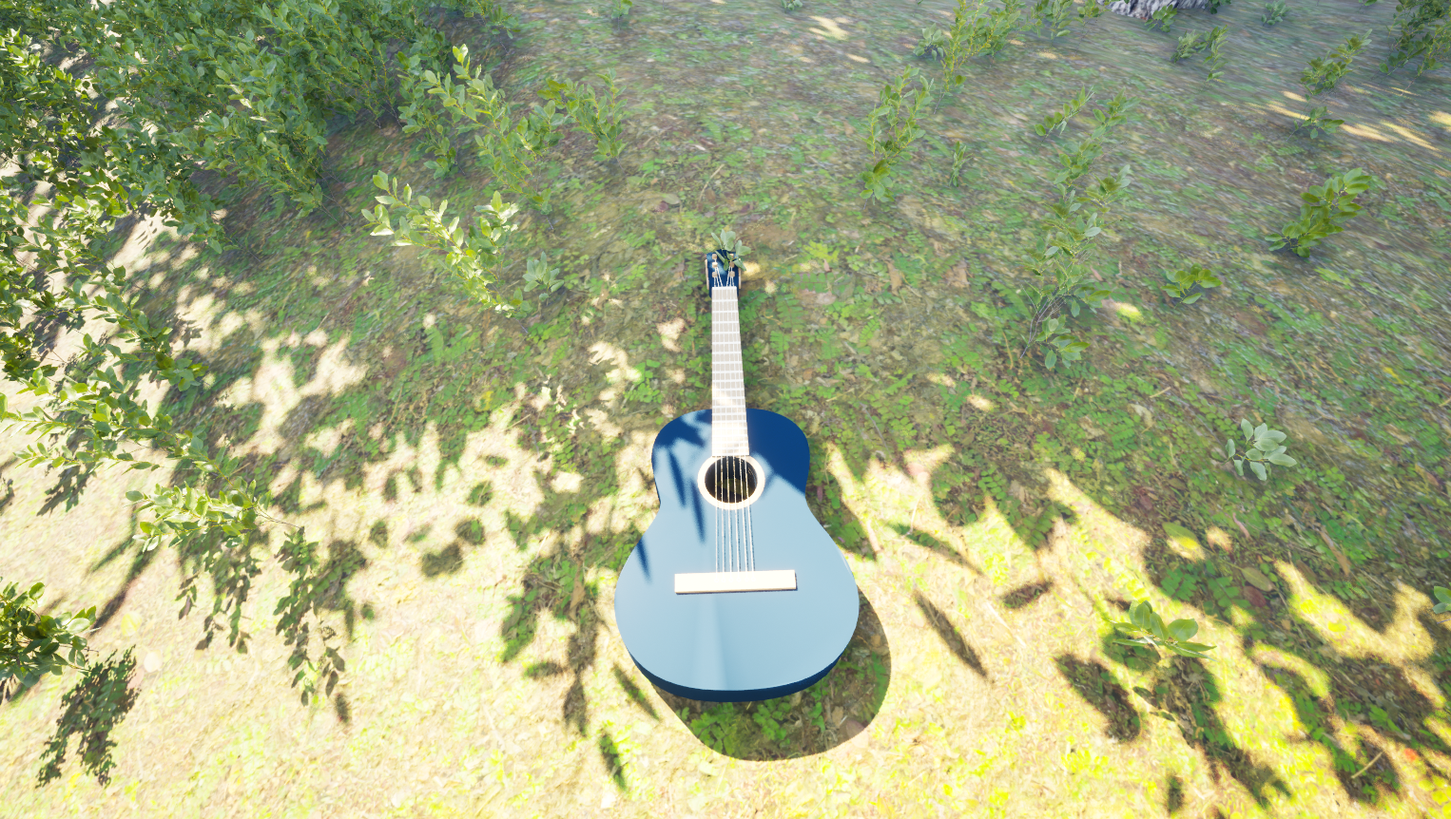Guitar: (606, 237, 874, 707)
